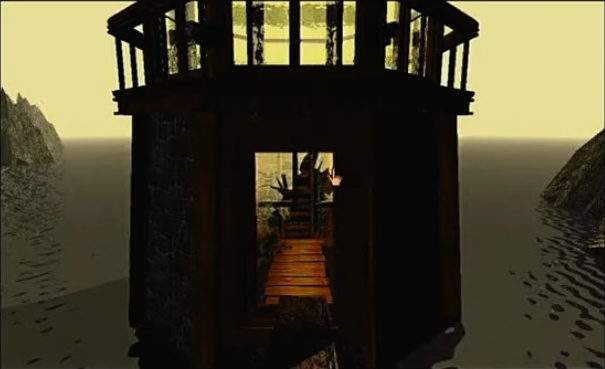Pointer: (324, 165, 346, 188)
